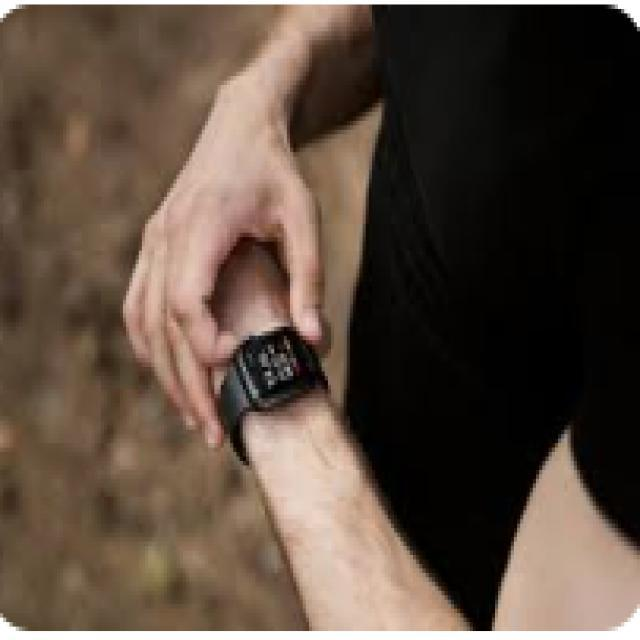Watch: (216, 321, 328, 434)
